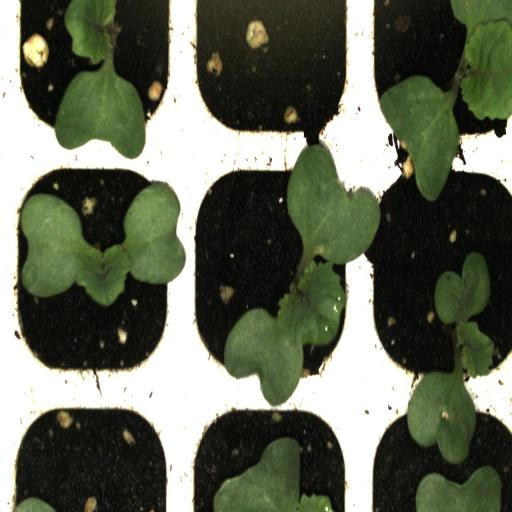noseedling: (183, 1, 365, 165)
seedling: (182, 155, 363, 386), (8, 157, 183, 388), (362, 161, 512, 403), (6, 0, 183, 157), (361, 0, 512, 159)
